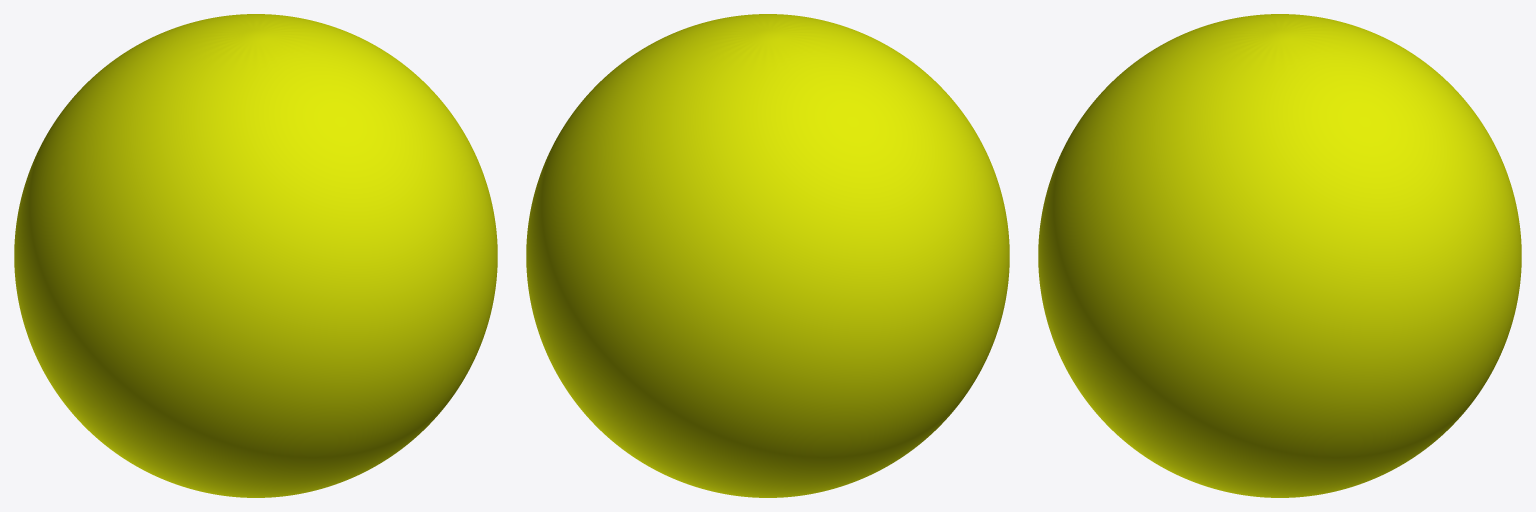
The model's file is hopmonB.fbx.
The picture shows the model from 3 angles, left to right: view 1: azimuth 30°, elevation 25°; view 2: azimuth 150°, elevation 25°; view 3: azimuth 270°, elevation 25°; orthographic projection.
Parts seen in each view (by area): view 1: Body.001; view 2: Body.001; view 3: Body.001.
Part boxes in pixels (x1,y1,x2,y2): Body.001: (14, 14, 497, 497); Body.001: (526, 14, 1009, 497); Body.001: (1038, 14, 1521, 497).
Bounding box in the file's own units: 1397 × 1411 × 1397.
